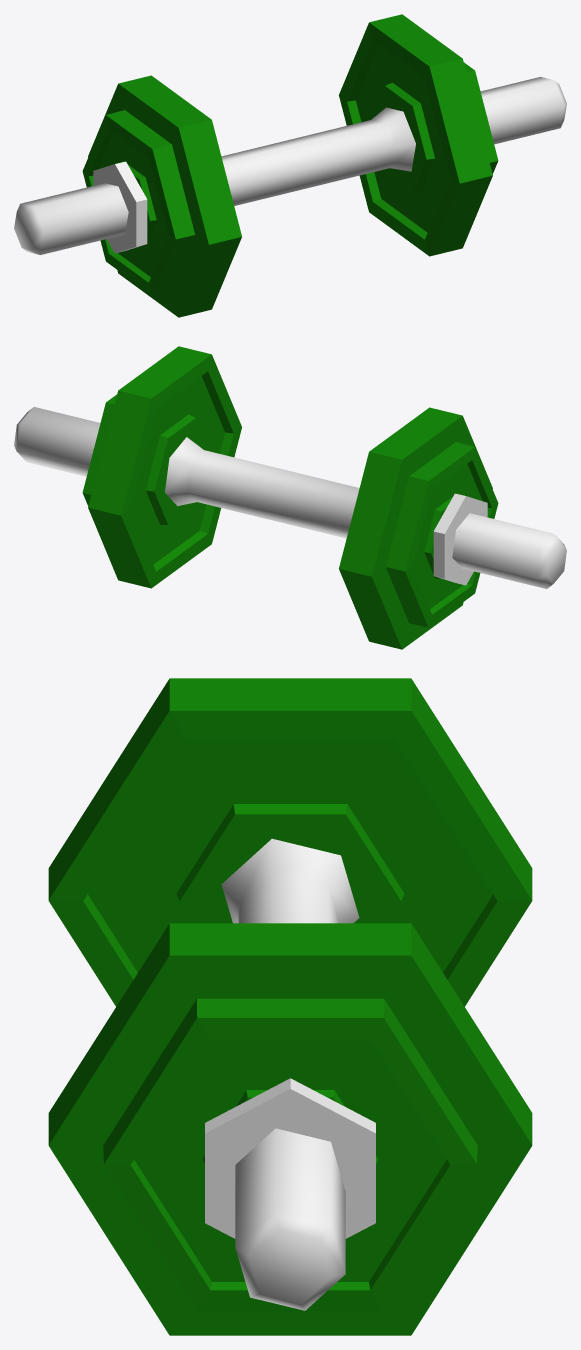
The model's file is Dumbbell.fbx.
The picture shows the model from 3 angles, top to bottom: view 1: azimuth 30°, elevation 25°; view 2: azimuth 150°, elevation 25°; view 3: azimuth 270°, elevation 25°; orthographic projection. The views are drawn at different scales.
Visible parts, largest first — view 1: Dumbbell; view 2: Dumbbell; view 3: Dumbbell.
Boxes of the visible parts, x1,y1,x2,y2 form: Dumbbell: (14,14,566,317); Dumbbell: (14,346,566,649); Dumbbell: (48,678,532,1335).
Bounding box in the file's own units: 0.9332 × 0.3181 × 0.3673.
